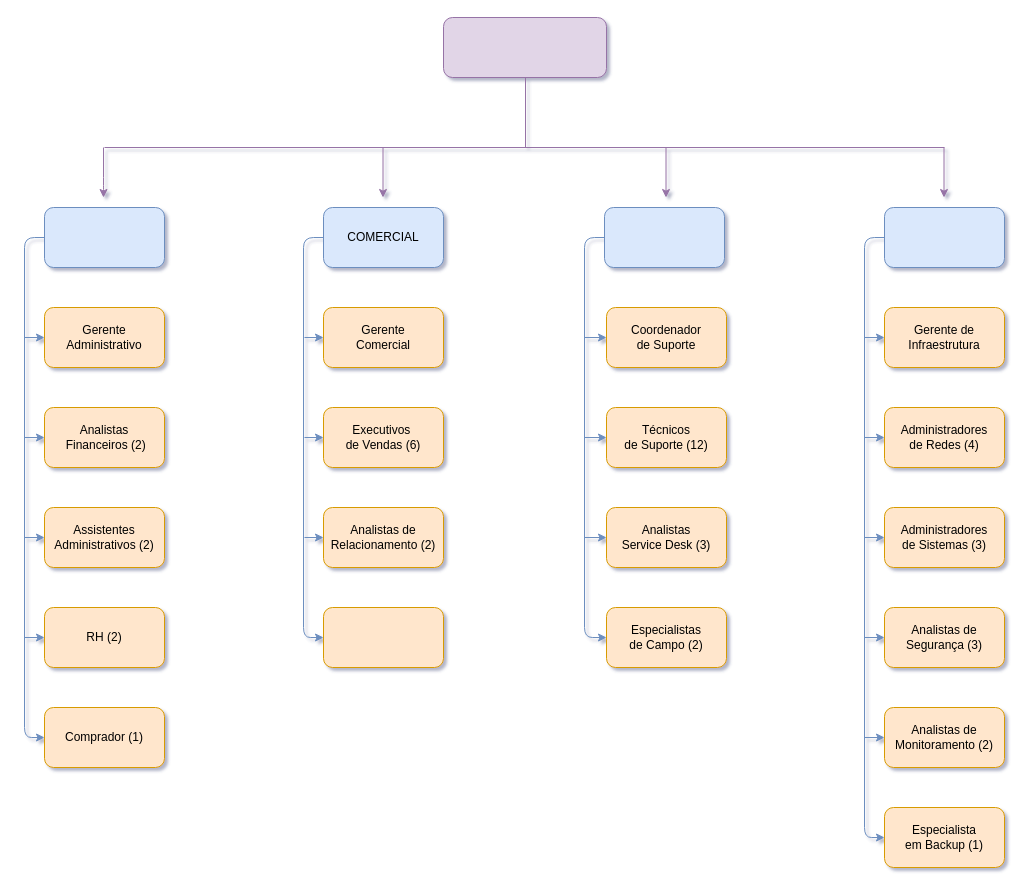
The diagram is 1028 pixels wide and 891 high, and some of its shapes have lost their labels. Each missing label, with the centre of its shape:
ADMINISTRATIVO: (x=104, y=237)
Assistente Comercial (1): (x=383, y=637)
DIRETOR GERAL: (x=524, y=47)
INFRAESTRUTURA: (x=944, y=237)
SUPORTE TÉCNICO: (x=664, y=237)
